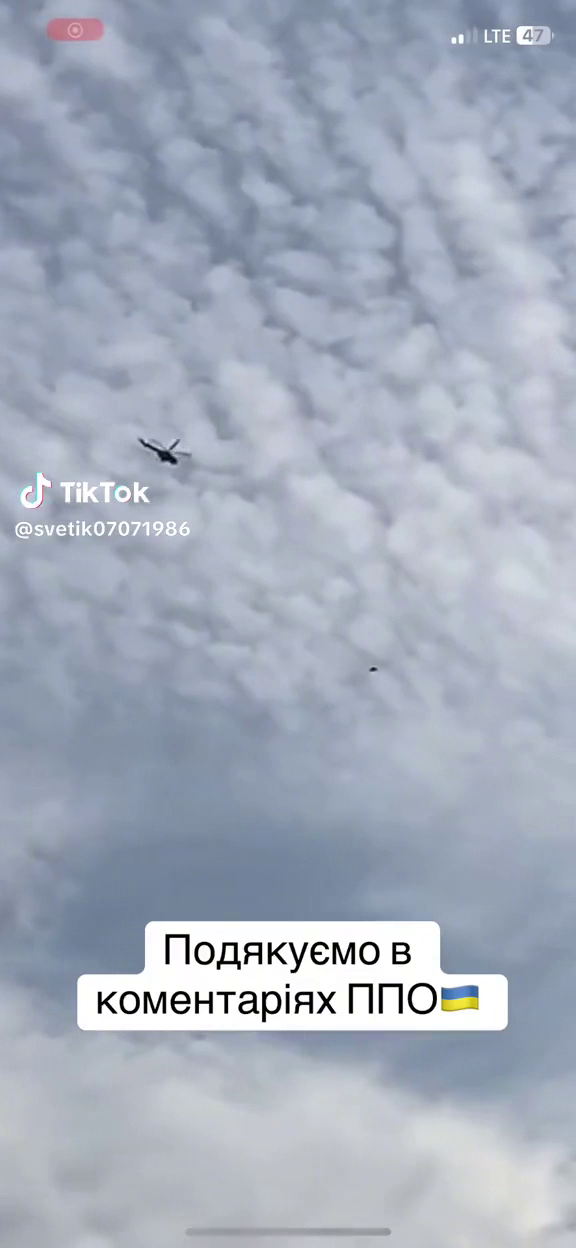not_drone: (134, 431, 194, 470)
